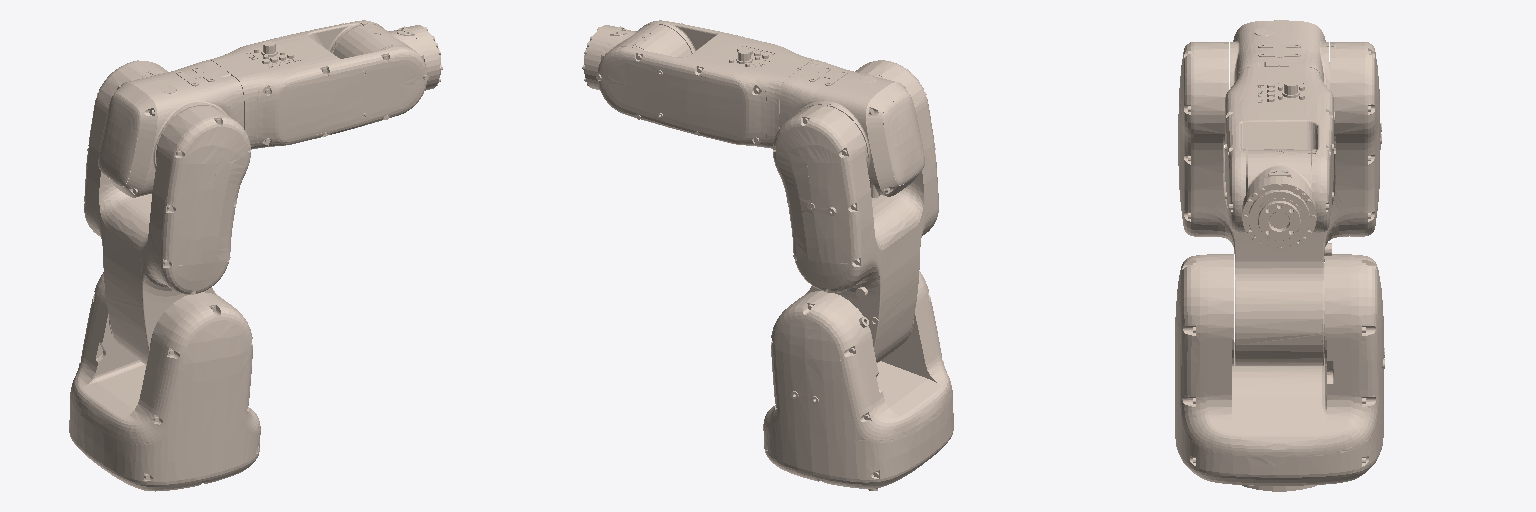
URDF robot description (NB4-R475-04):
<robot xmlns:xacro="http://www.ros.org/wiki/xacro" name="NB4-R475-04">
  <!-- Constants for robot dimensions -->
  <material name="black">
    <color rgba="0.0 0.0 0.0 1.0"/>
  </material>
  <material name="blue">
    <color rgba="0.0 0.0 0.8 1.0"/>
  </material>
  <material name="green">
    <color rgba="0.0 0.8 0.0 1.0"/>
  </material>
  <material name="grey">
    <color rgba="0.2 0.2 0.2 1.0"/>
  </material>
  <material name="orange">
    <color rgba="1.0 0.423529411765 0.0392156862745 1.0"/>
  </material>
  <material name="brown">
    <color rgba="0.870588235294 0.811764705882 0.764705882353 1.0"/>
  </material>
  <material name="red">
    <color rgba="0.8 0.0 0.0 1.0"/>
  </material>
  <material name="white">
    <color rgba="1.0 1.0 1.0 1.0"/>
  </material>
  <material name="Beige">
    <color rgba="1.0 0.784 0.5765 1.0"/>
  </material>
  <link name="NB4-R475-04_base">
    <visual>
      <geometry>
        <mesh filename="../stl/NB4_meshes/base_link.STL"/>
      </geometry>
      <origin rpy="0 0 0" xyz="0.0 0.0 0.0"/>
      <material name="brown"/>
    </visual>
    <inertial>
      <mass value="4.542"/>
      <inertia ixx="26.73069700" ixy="-0.38913900" ixz="0.98175600" iyy="23.30584900" iyz="1.36798600" izz="18.70524300"/>
      <origin rpy="0 0 0" xyz="-13.755 16.08 247.871"/>
    </inertial>
    <collision>
      <geometry>
        <mesh filename="../stl/NB4_meshes/base_link.STL" />
      </geometry>
      <origin rpy="0 0 0" xyz="0.0 0.0 0.0"/>
    </collision>
  </link>
  <joint name="NB4-R475-04_joint_1" type="revolute">
    <parent link="NB4-R475-04_base"/>
    <child link="NB4-R475-04_link1"/>
    <limit effort="4" lower="-2.9845" upper="2.9845" velocity="45.0"/>
    <axis xyz="0 0 1"/>
    <origin rpy="0 0 0" xyz="0.0 0.0 0.333"/>
  </joint>
  <transmission name="tran1">
    <type>transmission_interface/SimpleTransmission</type>
    <joint name="NB4-R475-04_joint_7">
      <hardwareInterface>EffortJointInterface</hardwareInterface>
    </joint>
    <actuator name="motor1">
      <hardwareInterface>EffortJointInterface</hardwareInterface>
      <mechanicalReduction>1</mechanicalReduction>
    </actuator>
  </transmission>
  <!--link 1-->
  <link name="NB4-R475-04_link1">
    <visual>
      <geometry>
        <mesh filename="../stl/NB4_meshes/RK_Link_1.STL" />
      </geometry>
      <origin rpy="0 0 0" xyz="0 0 0"/>
      <material name="brown"/>
    </visual>
    <inertial>
      <mass value="4.542"/>
      <inertia ixx="0.0607983150088000" ixy="0.000615462376800000" ixz="-0.00433488437100000" iyy="0.0570584049335500"  iyz="0.00758329513600000" izz="0.0207389981023500"/>
      <origin rpy="0 0 0" xyz="-0.013755 0.01608 -0.0851"/>
    </inertial>
    <collision>
      <geometry>
        <mesh filename="../stl/NB4_meshes/RK_Link_1.STL" />
      </geometry>
      <origin rpy="0 0 0" xyz="0 0 0"/>
    </collision>
  </link>
  <joint name="NB4-R475-04_joint_2" type="revolute">
    <parent link="NB4-R475-04_link1"/>
    <child link="NB4-R475-04_link2"/>
    <limit effort="91" lower="-1.576" upper="2.2742" velocity="36.0"/>
    <axis xyz="0 0 1"/>
    <origin rpy="-1.57079632679 -1.57079632679 0" xyz="0.0 0.0 0.0"/>
  </joint>
  <transmission name="tran2">
    <type>transmission_interface/SimpleTransmission</type>
    <joint name="xmate_joint_2">
      <hardwareInterface>EffortJointInterface</hardwareInterface>
    </joint>
    <actuator name="motor2">
      <hardwareInterface>EffortJointInterface</hardwareInterface>
      <mechanicalReduction>1</mechanicalReduction>
    </actuator>
  </transmission>
  <!--link 2-->
  <link name="NB4-R475-04_link2">
    <visual>
      <geometry>
        <mesh filename="../stl/NB4_meshes/RK_Link_2.STL" />
      </geometry>
      <origin rpy="0 0 0" xyz="0 0 0.0"/>
      <material name="brown"/>
    </visual>
    <inertial>
      <mass value="3.5"/>
      <inertia ixx="0.0137066700000000" ixy="0.00276824500000000" ixz="-0.00496010500000000" iyy="0.0774443500000000"  iyz="0.000522415000000000" izz="0.07009695"/>
      <origin rpy="0 0 0" xyz="0.1047 -0.0081 0.0149"/>
    </inertial>
    <collision>
      <geometry>
        <mesh filename="../stl/NB4_meshes/RK_Link_2.STL" />
      </geometry>
      <origin rpy="0 0 0" xyz="0 0 0.0"/>
    </collision>
  </link>
  <joint name="NB4-R475-04_joint_3" type="revolute">
    <parent link="NB4-R475-04_link2"/>
    <child link="NB4-R475-04_link3"/>
    <limit effort="53" lower="-3.4994" upper="0.9687" velocity="36.0"/>
    <axis xyz="0 0 1"/>
    <origin rpy="0 0 0" xyz="0.225 0.0 0.0"/>
  </joint>
  <transmission name="tran3">
    <type>transmission_interface/SimpleTransmission</type>
    <joint name="xmate_joint_3">
      <hardwareInterface>EffortJointInterface</hardwareInterface>
    </joint>
    <actuator name="motor3">
      <hardwareInterface>EffortJointInterface</hardwareInterface>
      <mechanicalReduction>1</mechanicalReduction>
    </actuator>
  </transmission>
  <!--link 3-->
  <link name="NB4-R475-04_link3">
    <visual>
      <geometry>
        <mesh filename="../stl/NB4_meshes/RK_Link_3.STL" />
      </geometry>
      <origin rpy="0 0 0" xyz="0 0 0"/>
      <material name="brown"/>
    </visual>
    <inertial>
      <mass value="2.183"/>
      <inertia ixx="0.00515766238113200" ixy="0.000615219221100000"  ixz="-7.97136735220000e-05" iyy="0.00450496189921900"  iyz="-0.000175684173400000" izz="0.00456085917808700"/>
      <origin rpy="0 0 0" xyz="-0.001367 0.0051 0.006798 "/>
    </inertial>
    <collision>
      <geometry>
        <mesh filename="../stl/NB4_meshes/RK_Link_3.STL" />
      </geometry>
      <origin rpy="0 0 0" xyz="0 0 0"/>
    </collision>
  </link>
  <joint name="NB4-R475-04_joint_4" type="revolute">
    <parent link="NB4-R475-04_link3"/>
    <child link="NB4-R475-04_link4"/>
    <limit effort="42" lower="-2.9932" upper="2.9932" velocity="55.0"/>
    <!--     lower="-6.2832" upper="6.2832" -->
    <axis xyz="0 0 1"/>
    <origin rpy="-1.57079632679 0 0" xyz="0.015 0.25 0"/>
  </joint>
  <transmission name="tran4">
    <type>transmission_interface/SimpleTransmission</type>
    <joint name="xmate_joint_4">
      <hardwareInterface>EffortJointInterface</hardwareInterface>
    </joint>
    <actuator name="motor4">
      <hardwareInterface>EffortJointInterface</hardwareInterface>
      <mechanicalReduction>1</mechanicalReduction>
    </actuator>
  </transmission>
  <!--link 4-->
  <link name="NB4-R475-04_link4">
    <visual>
      <geometry>
        <mesh filename="../stl/NB4_meshes/RK_Link_4.STL" />
      </geometry>
      <origin rpy="0 0 0" xyz="0.0 0.0 0.0"/>
      <material name="brown"/>
    </visual>
    <inertial>
      <mass value="2.167"/>
      <inertia ixx="0.0373834135" ixy="-5.41750000000000e-07" ixz="-0.000118643250000000" iyy="0.0368259055000000"  iyz="-0.000418643250000000" izz="0.0029"/>
      <origin rpy="0 0 0" xyz="-0.0005 -0.0005 -0.1095"/>
    </inertial>
    <collision>
      <geometry>
        <mesh filename="../stl/NB4_meshes/RK_Link_4.STL" />
      </geometry>
      <origin rpy="0 0 0" xyz="0.0 0.0 0.0"/>
    </collision>
  </link>
  <joint name="NB4-R475-04_joint_5" type="revolute">
    <parent link="NB4-R475-04_link4"/>
    <child link="NB4-R475-04_link5"/>
    <limit effort="15" lower="-2.1031" upper="2.1031" velocity="45.0"/>
    <axis xyz="0 0 1"/>
    <origin rpy="1.57079632679 0 0" xyz="0.0 0.0 0.0"/>
  </joint>
  <transmission name="tran5">
    <type>transmission_interface/SimpleTransmission</type>
    <joint name="xmate_joint_5">
      <hardwareInterface>EffortJointInterface</hardwareInterface>
    </joint>
    <actuator name="motor5">
      <hardwareInterface>EffortJointInterface</hardwareInterface>
      <mechanicalReduction>1</mechanicalReduction>
    </actuator>
  </transmission>
  <!--link 5-->
  <link name="NB4-R475-04_link5">
    <visual>
      <geometry>
        <mesh filename="../stl/NB4_meshes/RK_Link_5.STL" />
      </geometry>
      <origin rpy="0 0 0" xyz="0 0 0"/>
      <material name="brown"/>
    </visual>
    <inertial>
      <mass value="1.178"/>
      <inertia ixx="0.00171515632449600" ixy="-1.11858726400000e-06" ixz="-2.63061184000003e-07" iyy="0.00141505500"  iyz="-4.74002186480000e-05" izz="0.00175574006852000"/>
      <origin rpy="0 0 0" xyz="0.000048 0.017006 0.001186 "/>
    </inertial>
    <collision>
      <geometry>
        <mesh filename="../stl/NB4_meshes/RK_Link_5.STL" />
      </geometry>
      <origin rpy="0 0 0" xyz="0 0 0"/>
    </collision>
  </link>
  <joint name="NB4-R475-04_joint_6" type="revolute">
    <parent link="NB4-R475-04_link5"/>
    <child link="NB4-R475-04_link6"/>
    <limit effort="11" lower="-6.2832" upper="6.2832" velocity="86.0"/>
    <axis xyz="0 0 1"/>
    <origin rpy="-1.57079632679 0.0 0" xyz="0.0 0.068 0.0"/>
  </joint>
  <transmission name="tran6">
    <type>transmission_interface/SimpleTransmission</type>
    <joint name="xmate_joint_6">
      <hardwareInterface>EffortJointInterface</hardwareInterface>
    </joint>
    <actuator name="motor6">
      <hardwareInterface>EffortJointInterface</hardwareInterface>
      <mechanicalReduction>1</mechanicalReduction>
    </actuator>
  </transmission>
  <!--link 6-->
  <link name="NB4-R475-04_link6">
    <visual>
      <geometry>
        <mesh filename="../stl/NB4_meshes/RK_Link_6.STL" />
      </geometry>
      <origin rpy="0 0 0" xyz="0.0 0.0 0.0"/>
      <material name="brown"/>
    </visual>
    <inertial>
      <mass value="0.222"/>
      <inertia ixx="7.01251869900000e-05" ixy="-3.15311360000000e-08" ixz="-3.73894768000002e-07" iyy="6.99167782860000e-05"  iyz="3.06076640000031e-08" izz="6.52818470400000e-05"/>
      <origin rpy="0 0 0" xyz="-0.000088 0.000024 -0.011563"/>
    </inertial>
    <collision>
      <geometry>
        <mesh filename="../stl/NB4_meshes/RK_Link_6.STL" />
      </geometry>
      <origin rpy="0 0 0" xyz="0.0 0.0 0.0"/>
    </collision>
  </link>
</robot>

--- What the picture shows (computed from the rendered views, not written in the file) ---
The picture shows the robot from 3 angles, left to right: view 1: azimuth 30°, elevation 25°; view 2: azimuth 150°, elevation 25°; view 3: azimuth 270°, elevation 25°; orthographic projection.
Robot: NB4-R475-04 — 7 links, 6 joints (6 revolute); root link NB4-R475-04_base; default pose: every joint at zero.
Visible links, largest first — view 1: NB4-R475-04_link1, NB4-R475-04_link2, NB4-R475-04_link4, NB4-R475-04_link3, NB4-R475-04_link5; view 2: NB4-R475-04_link1, NB4-R475-04_link2, NB4-R475-04_link4, NB4-R475-04_link3, NB4-R475-04_link5; view 3: NB4-R475-04_link1, NB4-R475-04_link2, NB4-R475-04_link4, NB4-R475-04_link5, NB4-R475-04_link3, NB4-R475-04_link6.
Link boxes in pixels (<box>): NB4-R475-04_link1: <box>69,272,260,491</box>; NB4-R475-04_link2: <box>84,60,250,365</box>; NB4-R475-04_link4: <box>210,20,428,149</box>; NB4-R475-04_link3: <box>98,60,243,197</box>; NB4-R475-04_link5: <box>333,24,442,90</box>; NB4-R475-04_link1: <box>763,271,953,490</box>; NB4-R475-04_link2: <box>773,60,938,362</box>; NB4-R475-04_link4: <box>596,20,813,148</box>; NB4-R475-04_link3: <box>779,60,924,197</box>; NB4-R475-04_link5: <box>582,24,691,89</box>; NB4-R475-04_link1: <box>1175,254,1384,491</box>; NB4-R475-04_link2: <box>1178,42,1381,365</box>; NB4-R475-04_link4: <box>1225,67,1333,232</box>; NB4-R475-04_link5: <box>1242,149,1316,251</box>; NB4-R475-04_link3: <box>1230,20,1334,123</box>; NB4-R475-04_link6: <box>1256,198,1302,241</box>.
Bounding box of the posed robot: 0.4155 × 0.197 × 0.4567 m (x, y, z).
Meshes: 7 distinct files referenced, 6 mesh visuals loaded (6 binary STL); not drawn: 1 (reference not matched to a file when rendering).
